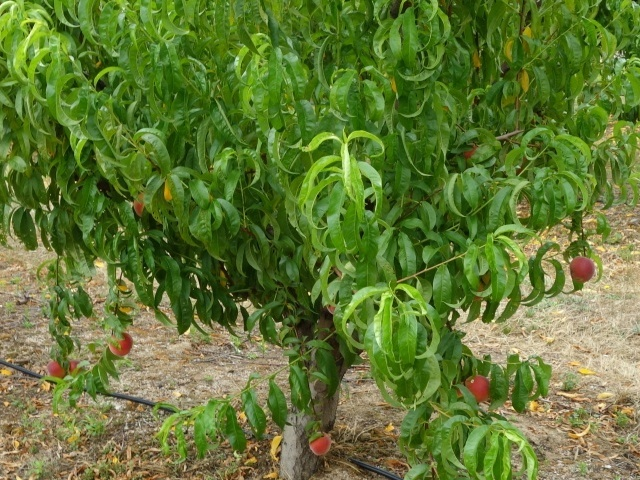peach: (565, 253, 598, 287), (460, 372, 493, 405), (104, 329, 136, 360), (306, 429, 333, 460), (128, 188, 151, 220), (44, 357, 68, 382)
